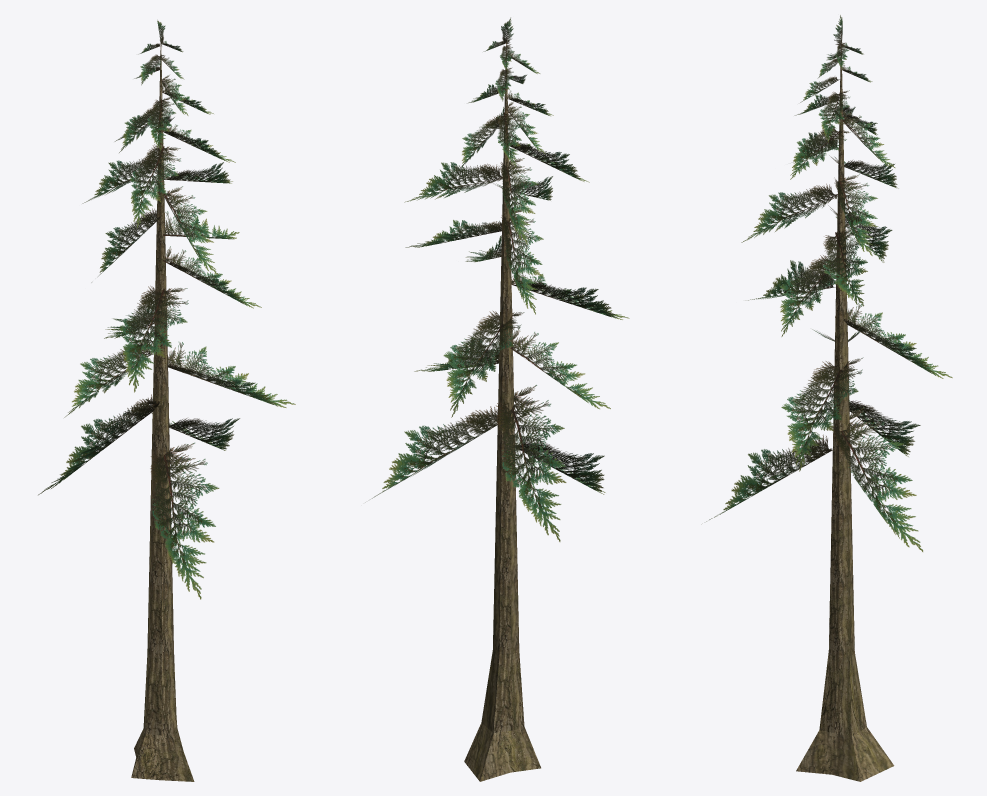
Rendered from tree-fir-tallest.glb.
3 views of the same model, side by side, from view 1: azimuth 30°, elevation 25°; view 2: azimuth 150°, elevation 25°; view 3: azimuth 270°, elevation 25° (orthographic).
Parts seen in each view (by area): view 1: Tree_4; view 2: Tree_4; view 3: Tree_4.
Boxes of the visible parts, x1,y1,x2,y2 form: Tree_4: [38, 20, 295, 781]; Tree_4: [365, 17, 629, 781]; Tree_4: [706, 15, 952, 781].
Size of the model in its own units: 3.33 by 9.24 by 3.27.
Materials: 2 (2 with a texture image).
